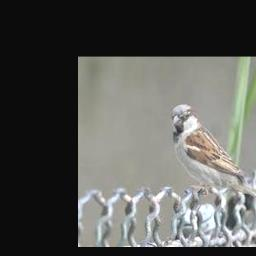Sparrow: (170, 103, 256, 213)
